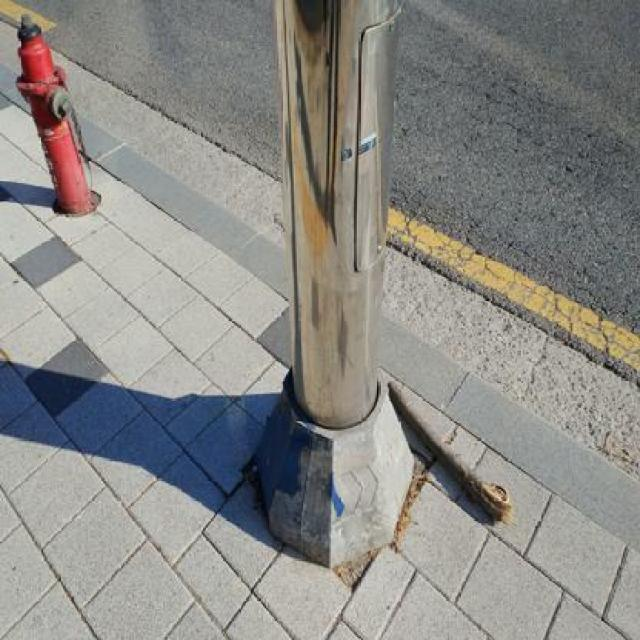pole: (211, 0, 451, 574)
